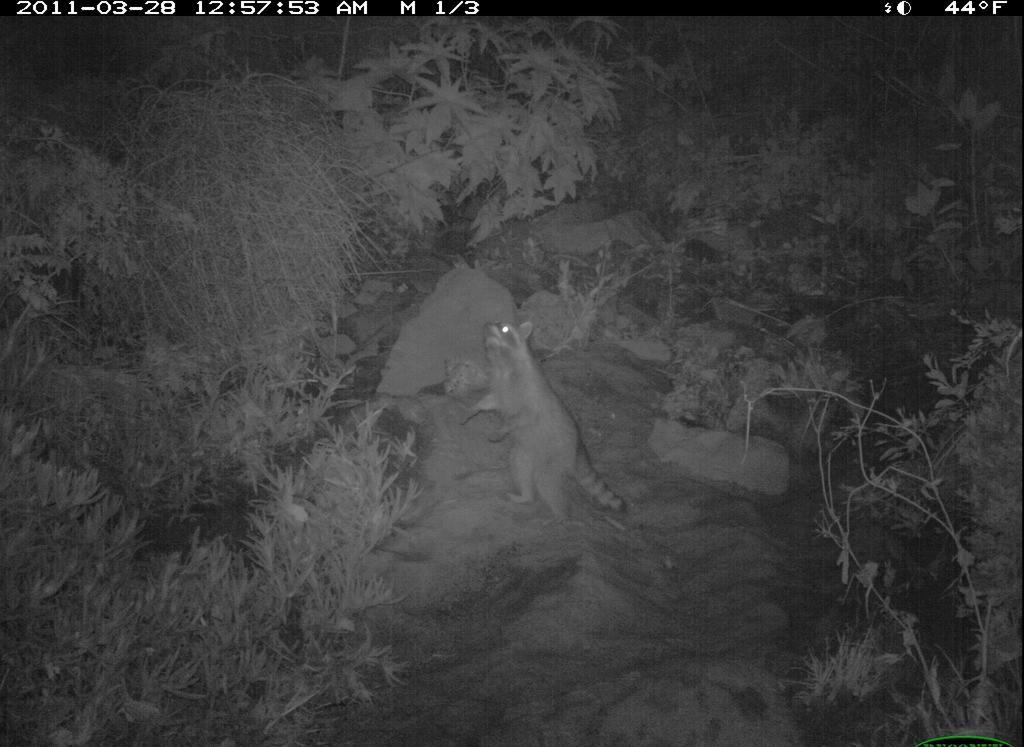raccoon: (457, 308, 637, 556)
